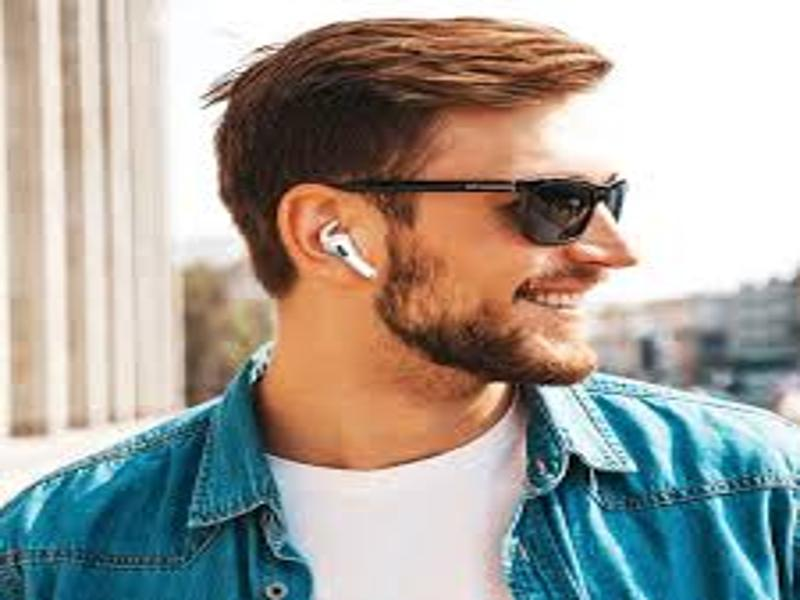headphone: (318, 224, 379, 282)
